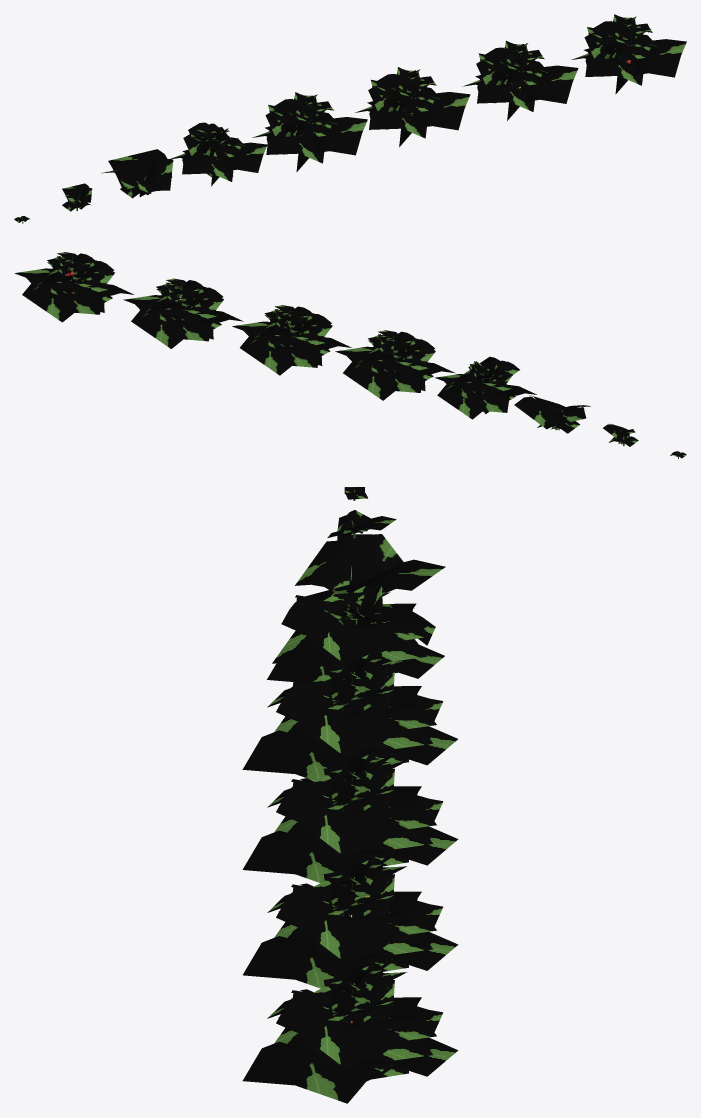
File: TomatoPlant_Stages.fbx
The picture shows the model from 3 angles, top to bottom: view 1: azimuth 30°, elevation 25°; view 2: azimuth 150°, elevation 25°; view 3: azimuth 270°, elevation 25°; orthographic projection. The views are drawn at different scales.
Visible parts, largest first — view 1: TomatoPlant_Stage8, TomatoPlant_Stage7, TomatoPlant_Stage6, TomatoPlant_Stage5, TomatoPlant_Stage4, TomatoPlant_Stage3, TomatoPlant_Stage2; view 2: TomatoPlant_Stage8, TomatoPlant_Stage7, TomatoPlant_Stage5, TomatoPlant_Stage6, TomatoPlant_Stage4, TomatoPlant_Stage3, TomatoPlant_Stage2; view 3: TomatoPlant_Stage8, TomatoPlant_Stage7, TomatoPlant_Stage6, TomatoPlant_Stage5, TomatoPlant_Stage4, TomatoPlant_Stage3, TomatoPlant_Stage2.
Part boxes in pixels (x1,y1,x2,y2): TomatoPlant_Stage8: (571, 14, 686, 94); TomatoPlant_Stage7: (462, 40, 578, 120); TomatoPlant_Stage6: (355, 67, 470, 147); TomatoPlant_Stage5: (252, 92, 367, 171); TomatoPlant_Stage4: (170, 122, 267, 186); TomatoPlant_Stage3: (101, 149, 173, 198); TomatoPlant_Stage2: (62, 183, 92, 211); TomatoPlant_Stage8: (14, 252, 134, 322); TomatoPlant_Stage7: (123, 278, 243, 348); TomatoPlant_Stage5: (335, 330, 455, 400); TomatoPlant_Stage6: (232, 305, 351, 375); TomatoPlant_Stage4: (435, 356, 536, 419); TomatoPlant_Stage3: (514, 395, 590, 433); TomatoPlant_Stage2: (603, 424, 638, 446); TomatoPlant_Stage8: (242, 964, 457, 1103); TomatoPlant_Stage7: (243, 858, 458, 988); TomatoPlant_Stage6: (242, 752, 458, 882); TomatoPlant_Stage5: (242, 652, 457, 780); TomatoPlant_Stage4: (267, 584, 444, 681); TomatoPlant_Stage3: (295, 534, 445, 599); TomatoPlant_Stage2: (327, 510, 396, 540).
Bounding box in the file's own units: 6089 × 546 × 852.
Materials: 7 (4 with a texture image).
